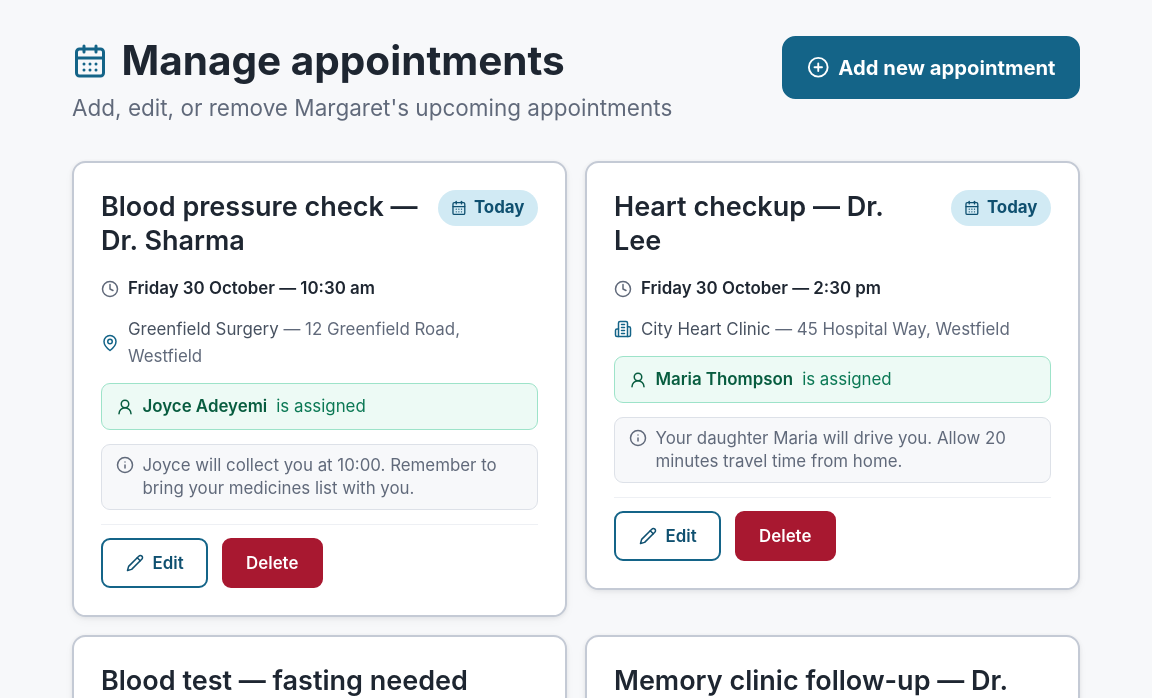
ManageAppointments › validates required fields
The width and height of the screenshot is (1152, 698).
Click the button "Add new appointment".
click(931, 68)  # box [782,36,1080,99]
(page scrolled)
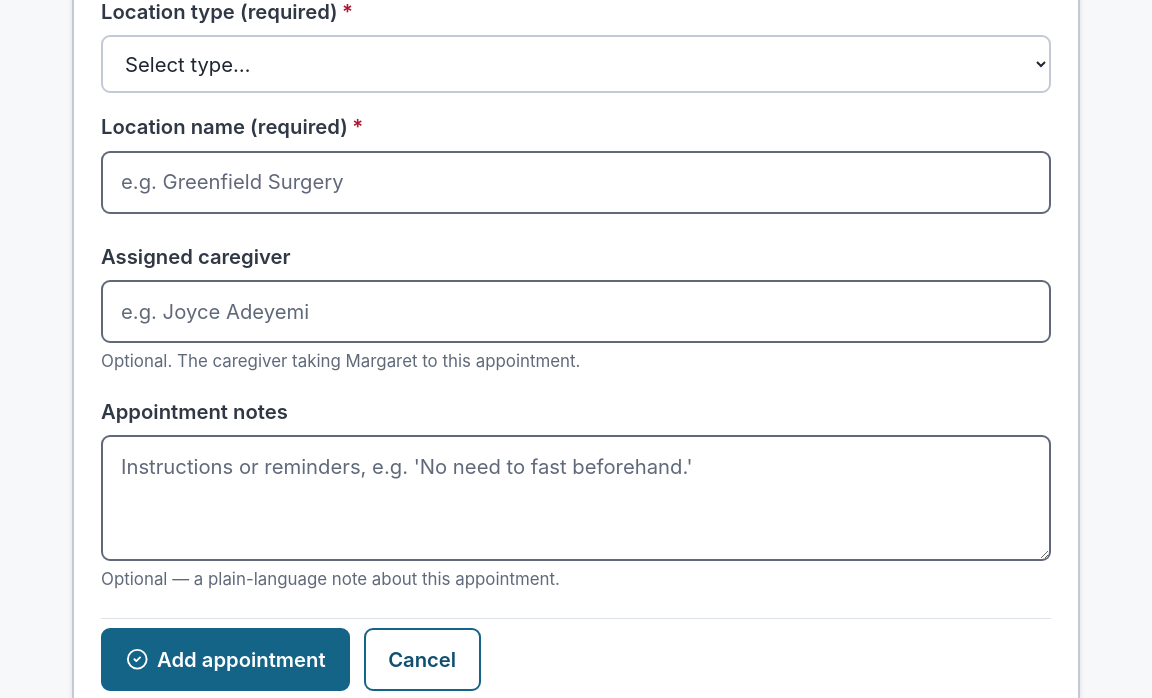
Click the button "Add appointment".
click(226, 660)  # box [101,628,350,691]
(page scrolled)
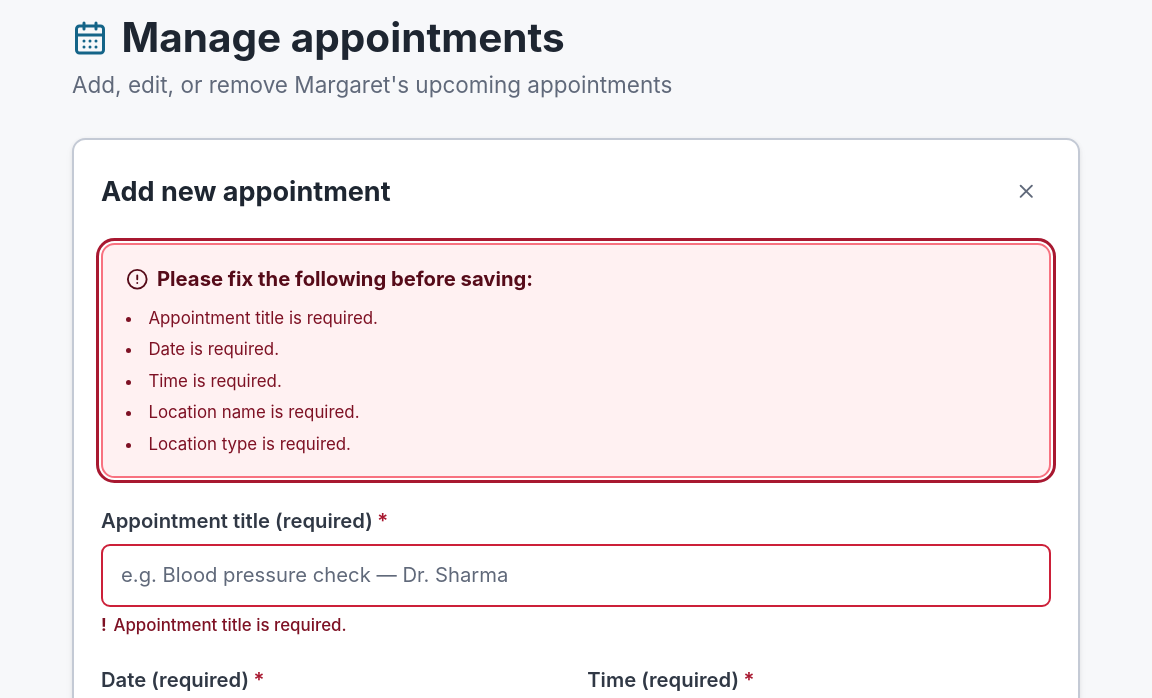
Result: the list item "Appointment title is required." is shown at [148,308,378,328]
Result: the list item "Date is required." is shown at [148,339,279,359]
Result: the list item "Time is required." is shown at [148,371,282,391]
